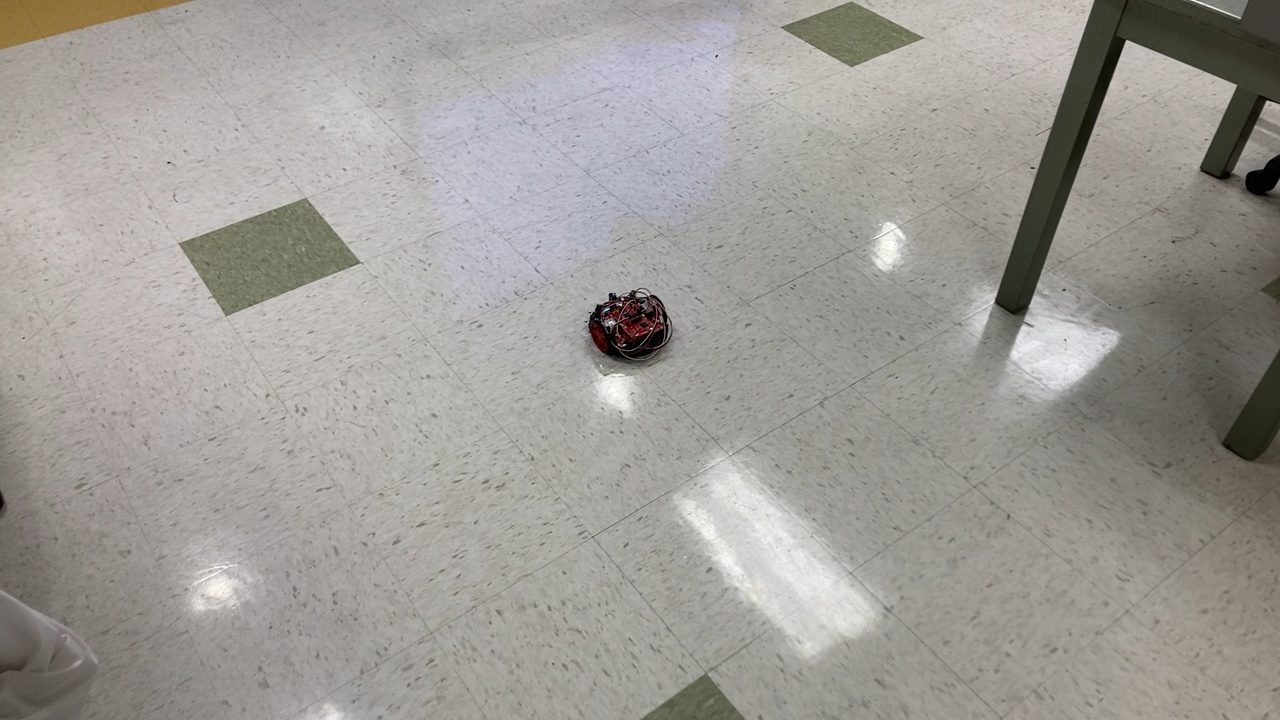robot: (585, 287, 678, 364)
